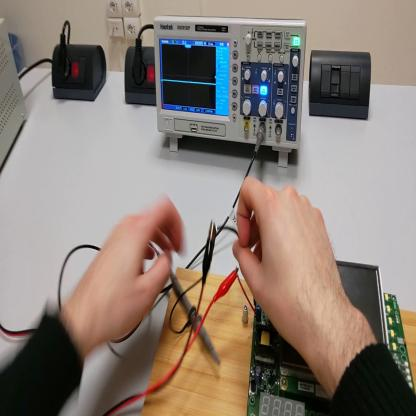hand: (234, 176, 349, 356), (77, 200, 182, 348)
low voltage board: (219, 221, 416, 413)
oscilloscope: (155, 14, 309, 168)
oscilloscope probe tip: (171, 272, 218, 370)
power supply: (2, 18, 30, 173)
socket: (51, 46, 109, 104), (125, 45, 158, 107)
working area: (144, 269, 416, 415)
